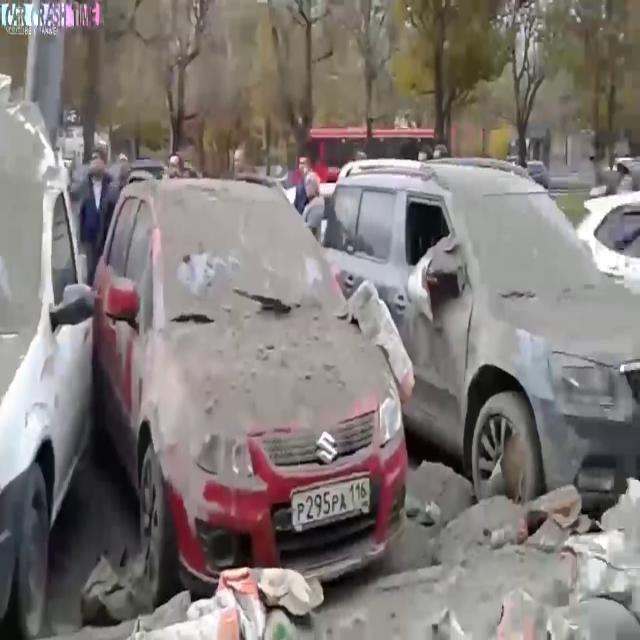Accident: (132, 169, 444, 640), (366, 79, 640, 509)
